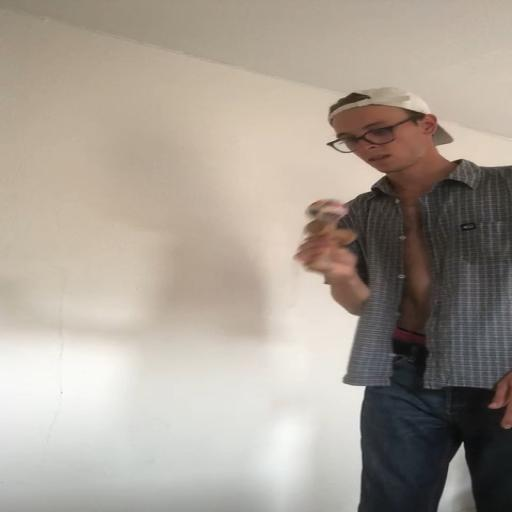kendama_ball: (305, 198, 348, 221)
